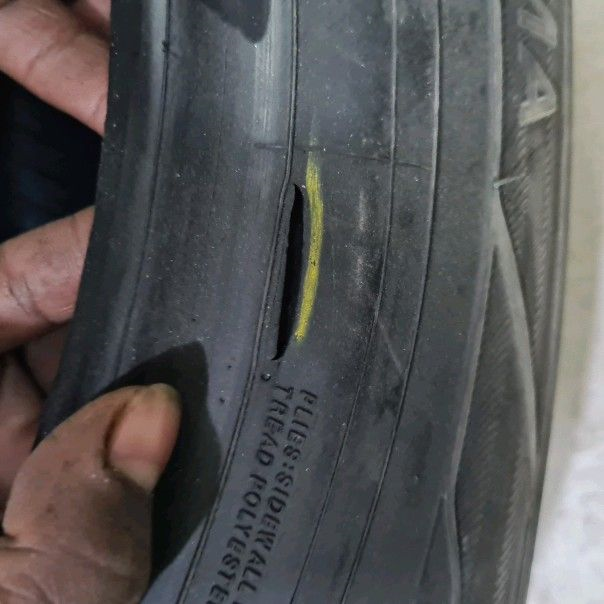cut: (267, 179, 306, 363)
